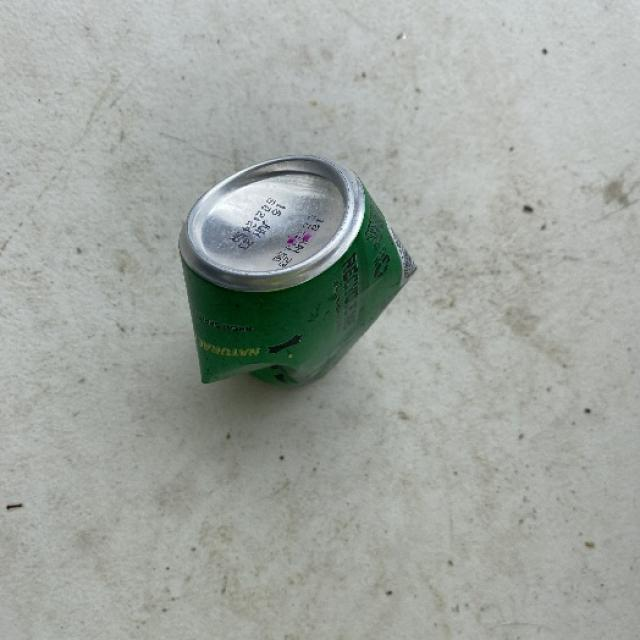metal: (177, 153, 417, 387)
